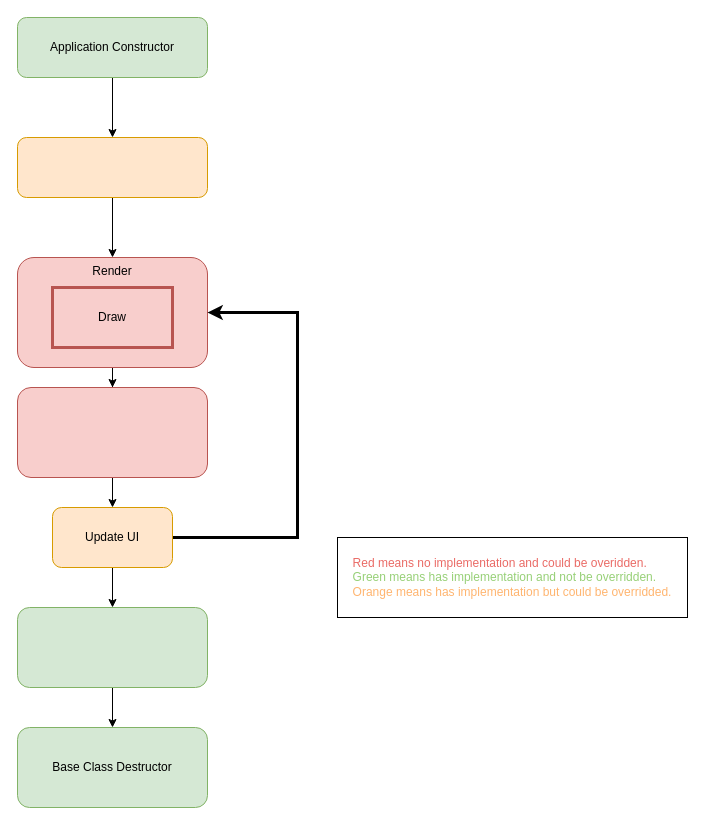
Image size: 705x825. Some labels were removed from this diagram. Each missing label, with the centre of its shape:
"Application Destructor" belongs at (x=112, y=647).
"prepare" belongs at (x=112, y=167).
"ViewChanged" belongs at (x=112, y=432).
